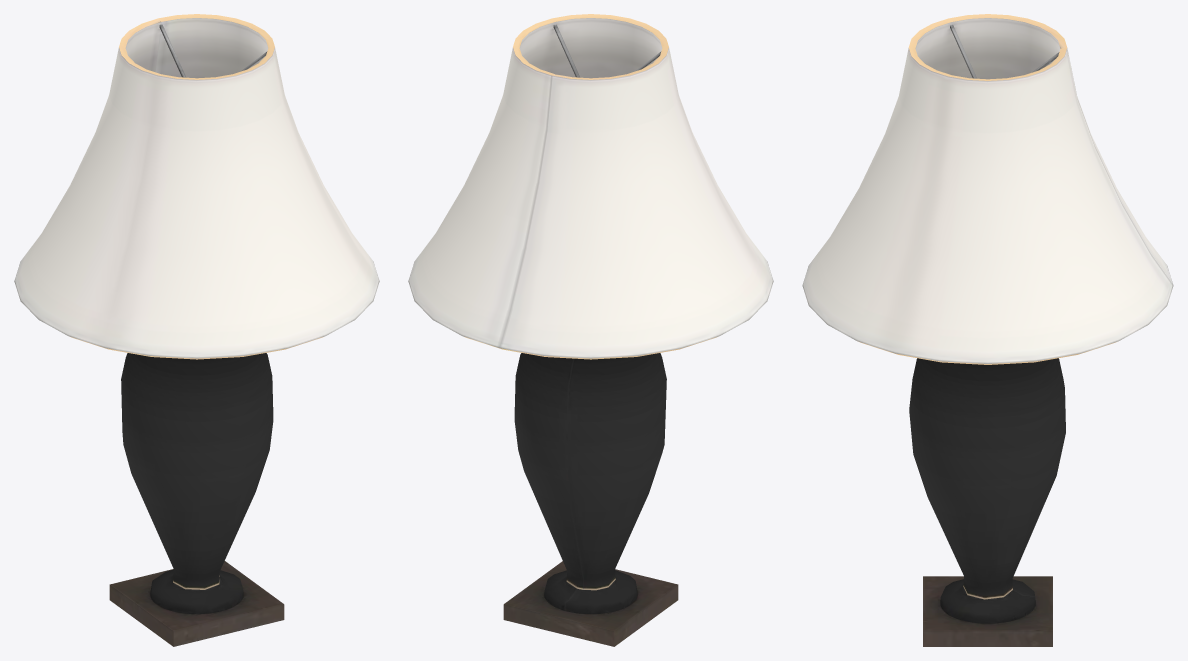
The model's file is table_lamp.glb.
3 renders of one model, left to right at view 1: azimuth 30°, elevation 25°; view 2: azimuth 150°, elevation 25°; view 3: azimuth 270°, elevation 25°, orthographic.
Visible parts, largest first — view 1: Object_3; view 2: Object_3; view 3: Object_3.
Boxes of the visible parts, x1,y1,x2,y2 form: Object_3: (14,14,379,646); Object_3: (408,14,773,646); Object_3: (802,14,1173,646).
Size of the model in its own units: 27.45 by 46.69 by 27.45.
Materials: 1 (1 with a texture image).
